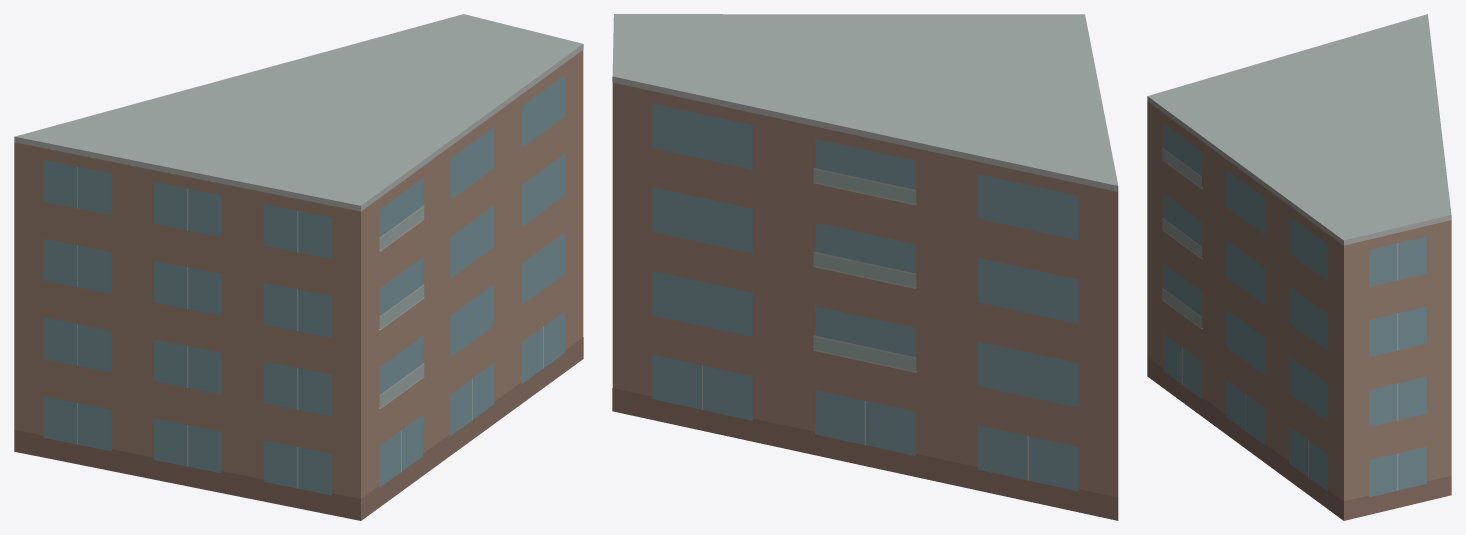
File: survey-upis-32739305.glb
3 renders of one model, left to right at view 1: azimuth 30°, elevation 25°; view 2: azimuth 150°, elevation 25°; view 3: azimuth 270°, elevation 25°, orthographic. The views are drawn at different scales.
Visible parts, largest first — view 1: survey-upis-32739305.tmp; view 2: survey-upis-32739305.tmp; view 3: survey-upis-32739305.tmp.
Boxes of the visible parts, box(x1,y1,x2,y2) form: survey-upis-32739305.tmp: box(14, 14, 583, 520); survey-upis-32739305.tmp: box(612, 14, 1118, 520); survey-upis-32739305.tmp: box(1147, 14, 1451, 520).
Size of the model in its own units: 23.33 by 13.45 by 13.23.
